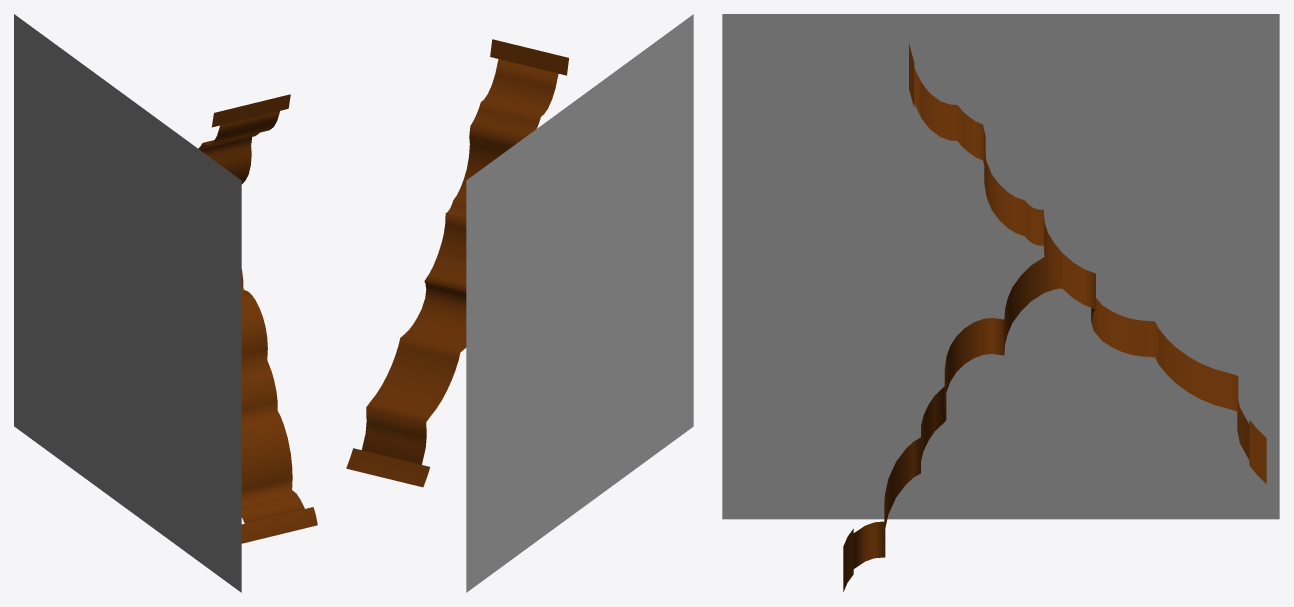
Rendered from FormatkaDoChlebow.fbx.
3 renders of one model, left to right at view 1: azimuth 30°, elevation 25°; view 2: azimuth 150°, elevation 25°; view 3: azimuth 270°, elevation 25°, orthographic. The views are drawn at different scales.
Parts seen in each view (by area): view 1: chlebek_1.001; view 2: chlebek_1.001; view 3: chlebek_1.001.
Boxes of the visible parts, x1,y1,x2,y2 form: chlebek_1.001: (14,14,317,592); chlebek_1.001: (346,14,693,592); chlebek_1.001: (722,14,1279,591).
Bounding box in the file's own units: 64.41 × 202 × 202.
